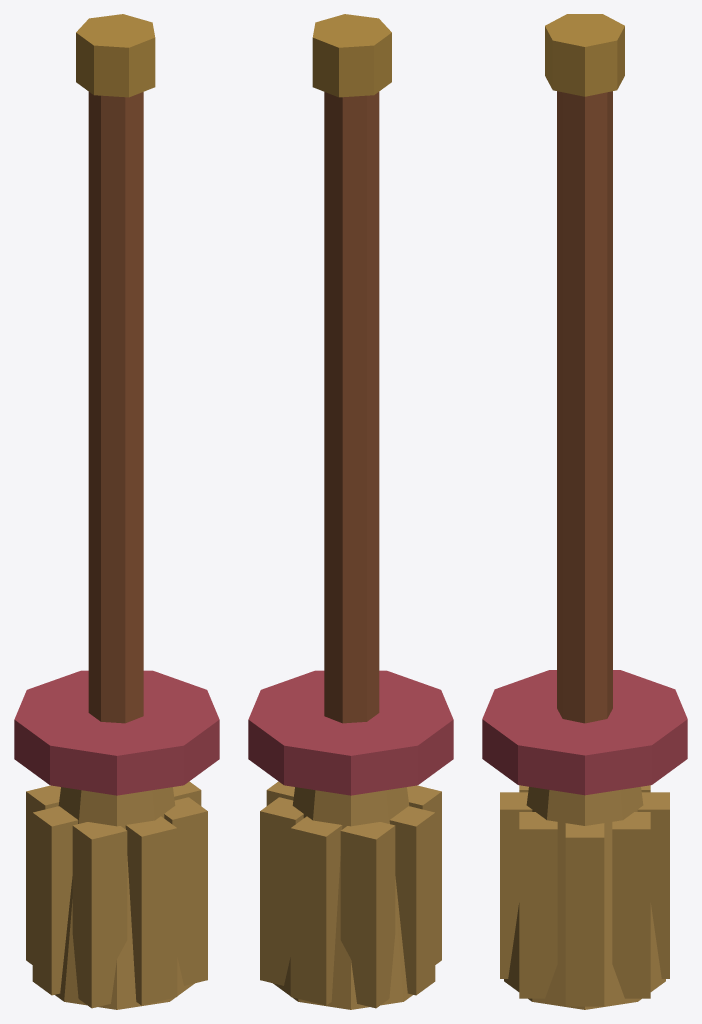
Rendered from broom.obj.
3 views of the same model, side by side, from view 1: azimuth 30°, elevation 25°; view 2: azimuth 150°, elevation 25°; view 3: azimuth 270°, elevation 25° (orthographic).
Parts seen in each view (by area): view 1: broom; view 2: broom; view 3: broom.
Part boxes in pixels (bbox=[...]): broom: bbox=[14, 14, 219, 1009]; broom: bbox=[248, 14, 453, 1009]; broom: bbox=[482, 14, 687, 1009].
Size of the model in its own units: 0.3685 by 1.9 by 0.3742.
